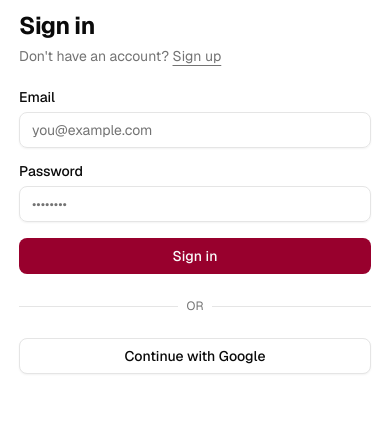
Test: SignInPage › shows error message on sign-in failure
In the field labelled "Email": (195, 130) [19,112,371,148], type "test@example.com"
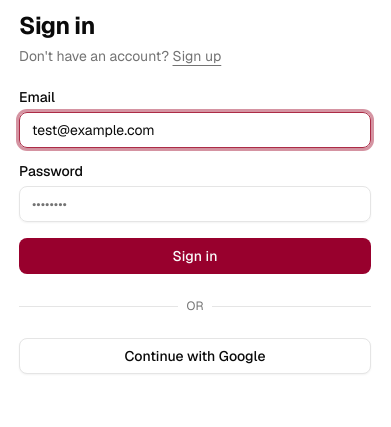
In the password field labelled "Password": (195, 204) [19,186,371,222], type "wrongpassword"
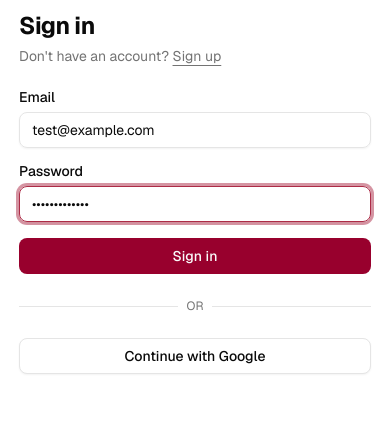
Click the button "Sign in": (195, 256) [19,238,371,274]
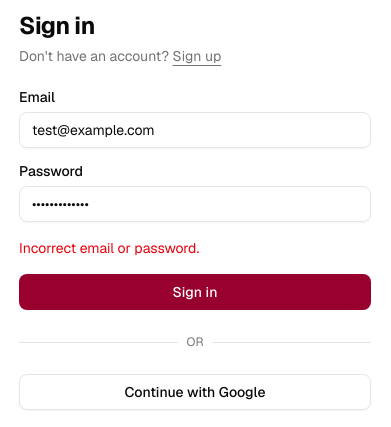
Now the text "Incorrect email or password." is shown, box [19,239,199,257]
